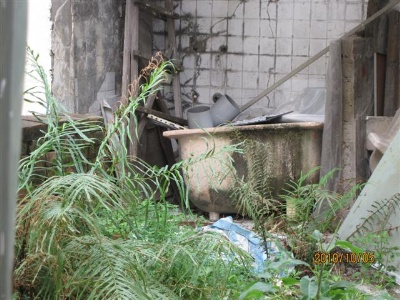bowl: (210, 94, 238, 127), (186, 105, 213, 129)
tub: (162, 122, 324, 221)
